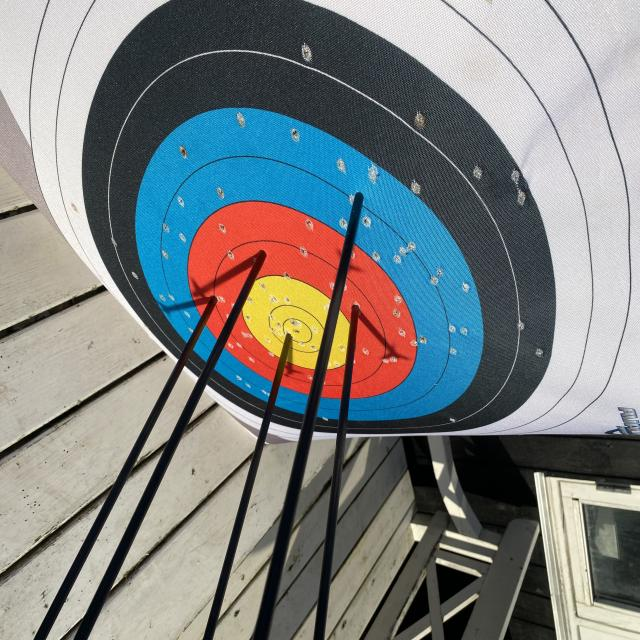Arrow_Blue: (339, 178, 388, 230)
Arrow_Red: (240, 242, 282, 278), (200, 276, 228, 316), (348, 293, 374, 330)
Arrow_Yellow: (274, 324, 302, 362)
